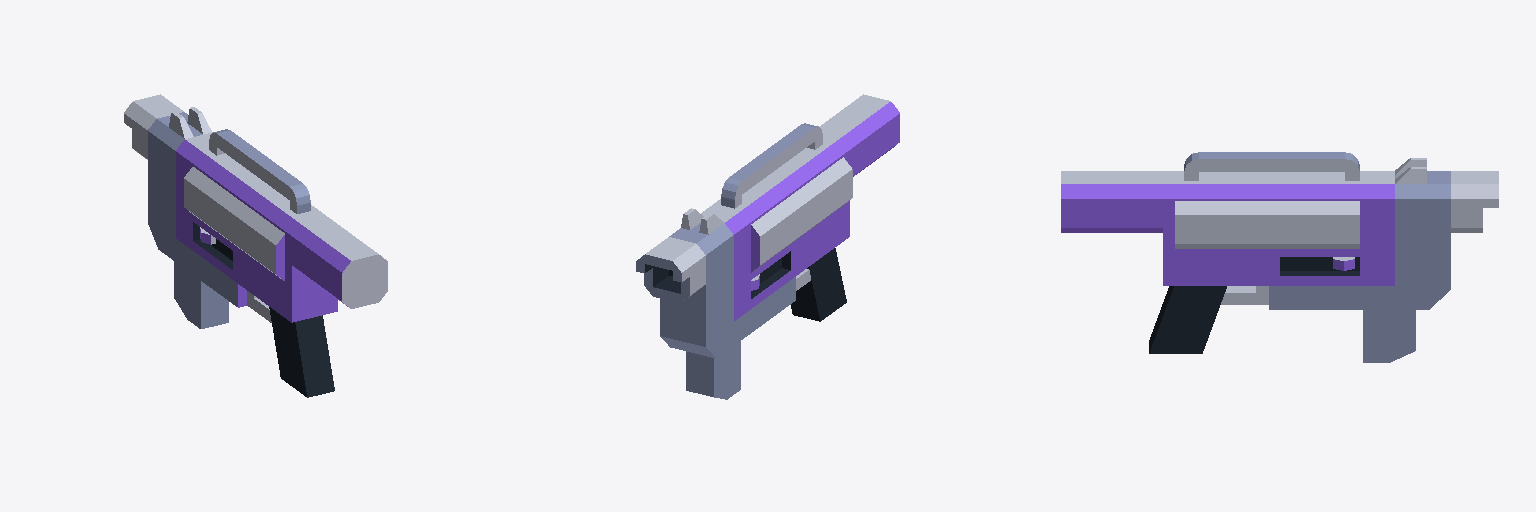
File: blasterA.obj
3 views of the same model, side by side, from view 1: azimuth 30°, elevation 25°; view 2: azimuth 150°, elevation 25°; view 3: azimuth 270°, elevation 25° (orthographic).
Parts seen in each view (by area): view 1: blasterA; view 2: blasterA; view 3: blasterA.
Part boxes in pixels (x1,y1,x2,y2): blasterA: (124, 94, 387, 397); blasterA: (636, 94, 899, 399); blasterA: (1061, 152, 1498, 362).
Size of the model in its own units: 0.14 by 0.4159 by 0.82.